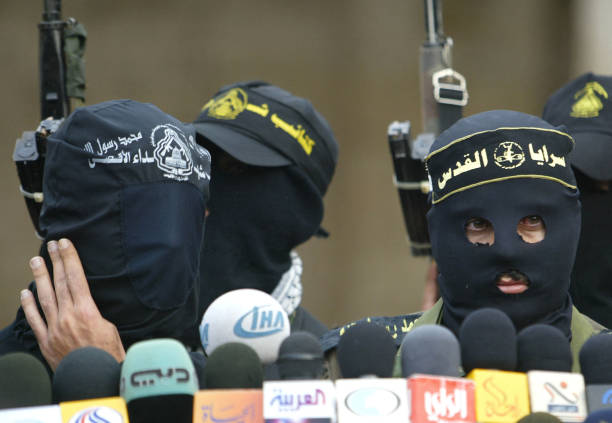terrorist: (3, 8, 216, 413), (388, 104, 592, 329)
